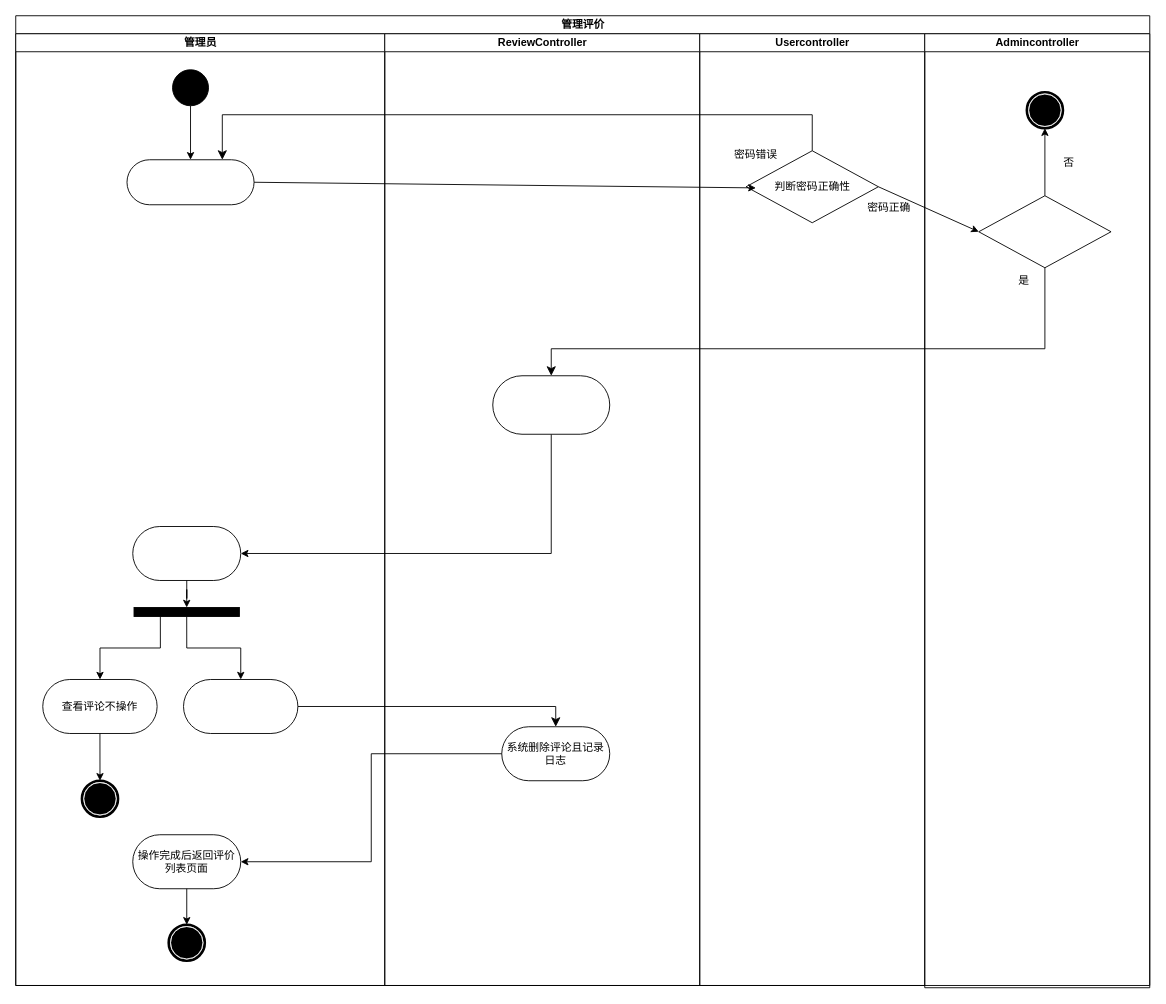
Image size: 1166x1004. Some labels were removed from this diagram. The centre of each missing label's shape, as x and y in pixels:
删除指定评论: (x=240, y=706)
判断是否为管理员: (x=1044, y=231)
登录系统: (x=190, y=182)
管理员选择一个评价进行以下操作: (x=186, y=553)
系统展示评价列表: (x=551, y=404)
